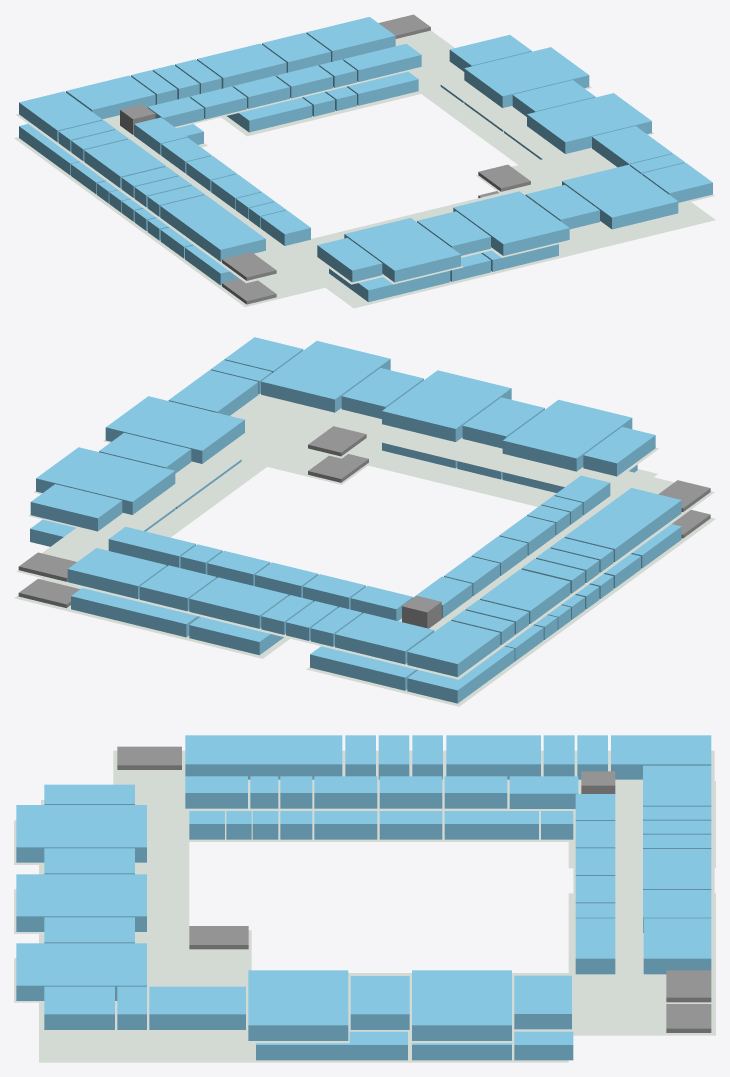
Rendered from buildingv4.glb.
3 renders of one model, top to bottom at view 1: azimuth 30°, elevation 25°; view 2: azimuth 150°, elevation 25°; view 3: azimuth 270°, elevation 25°, orthographic. The views are drawn at different scales.
Parts seen in each view (by area): view 1: floor_2, floor_2.001, room_2.10, room_2.07, room_2.05, room_2.50, room_2.48, room_2.18, room_2.36, room_2.43, room_2.29, room_2.30 (+46 smaller); view 2: floor_2, floor_2.001, room_2.10, room_2.07, room_2.05, room_2.50, room_2.48, room_2.18, room_2.29, room_2.30, room_2.36, room_2.43 (+45 smaller); view 3: floor_2, floor_2.001, room_2.50, room_2.48, room_2.18, room_2.07, room_2.10, room_2.05, room_2.51, room_2.26, room_2.43, room_2.29 (+47 smaller).
Part boxes in pixels (x1,y1,x2,y2): floor_2: (16,30,714,284); floor_2.001: (14,69,715,308); room_2.10: (344,218,460,282); room_2.07: (453,191,569,255); room_2.05: (562,165,678,229); room_2.50: (527,93,651,153); room_2.48: (464,47,589,107); room_2.18: (160,195,265,261); room_2.36: (197,43,286,88); room_2.43: (306,17,395,61); room_2.29: (19,91,102,142); room_2.30: (66,75,155,119); floor_2: (16,393,714,679); floor_2.001: (14,439,715,706); room_2.10: (502,399,632,471); room_2.07: (382,370,511,441); room_2.05: (261,341,390,412); room_2.50: (105,396,244,463); room_2.48: (36,447,175,514); room_2.18: (564,488,681,561); room_2.29: (407,620,500,677); room_2.30: (335,613,434,664); room_2.36: (189,577,288,628); room_2.43: (67,548,166,599); floor_2: (14,750,714,1043); floor_2.001: (39,781,715,1062); room_2.50: (248,970,348,1040); room_2.48: (412,970,511,1040); room_2.18: (185,735,342,779); room_2.07: (16,874,146,931); room_2.10: (16,805,146,862); room_2.05: (16,943,146,1000); room_2.51: (149,986,245,1029); room_2.26: (446,735,540,779); room_2.43: (643,918,711,974); room_2.29: (611,735,711,779).
Size of the model in its own units: 61.04 by 5.1 by 61.75.
